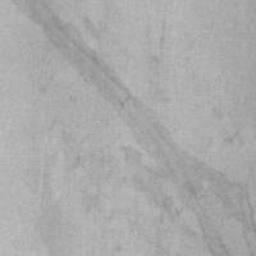Water spot: (8, 0, 256, 256)
